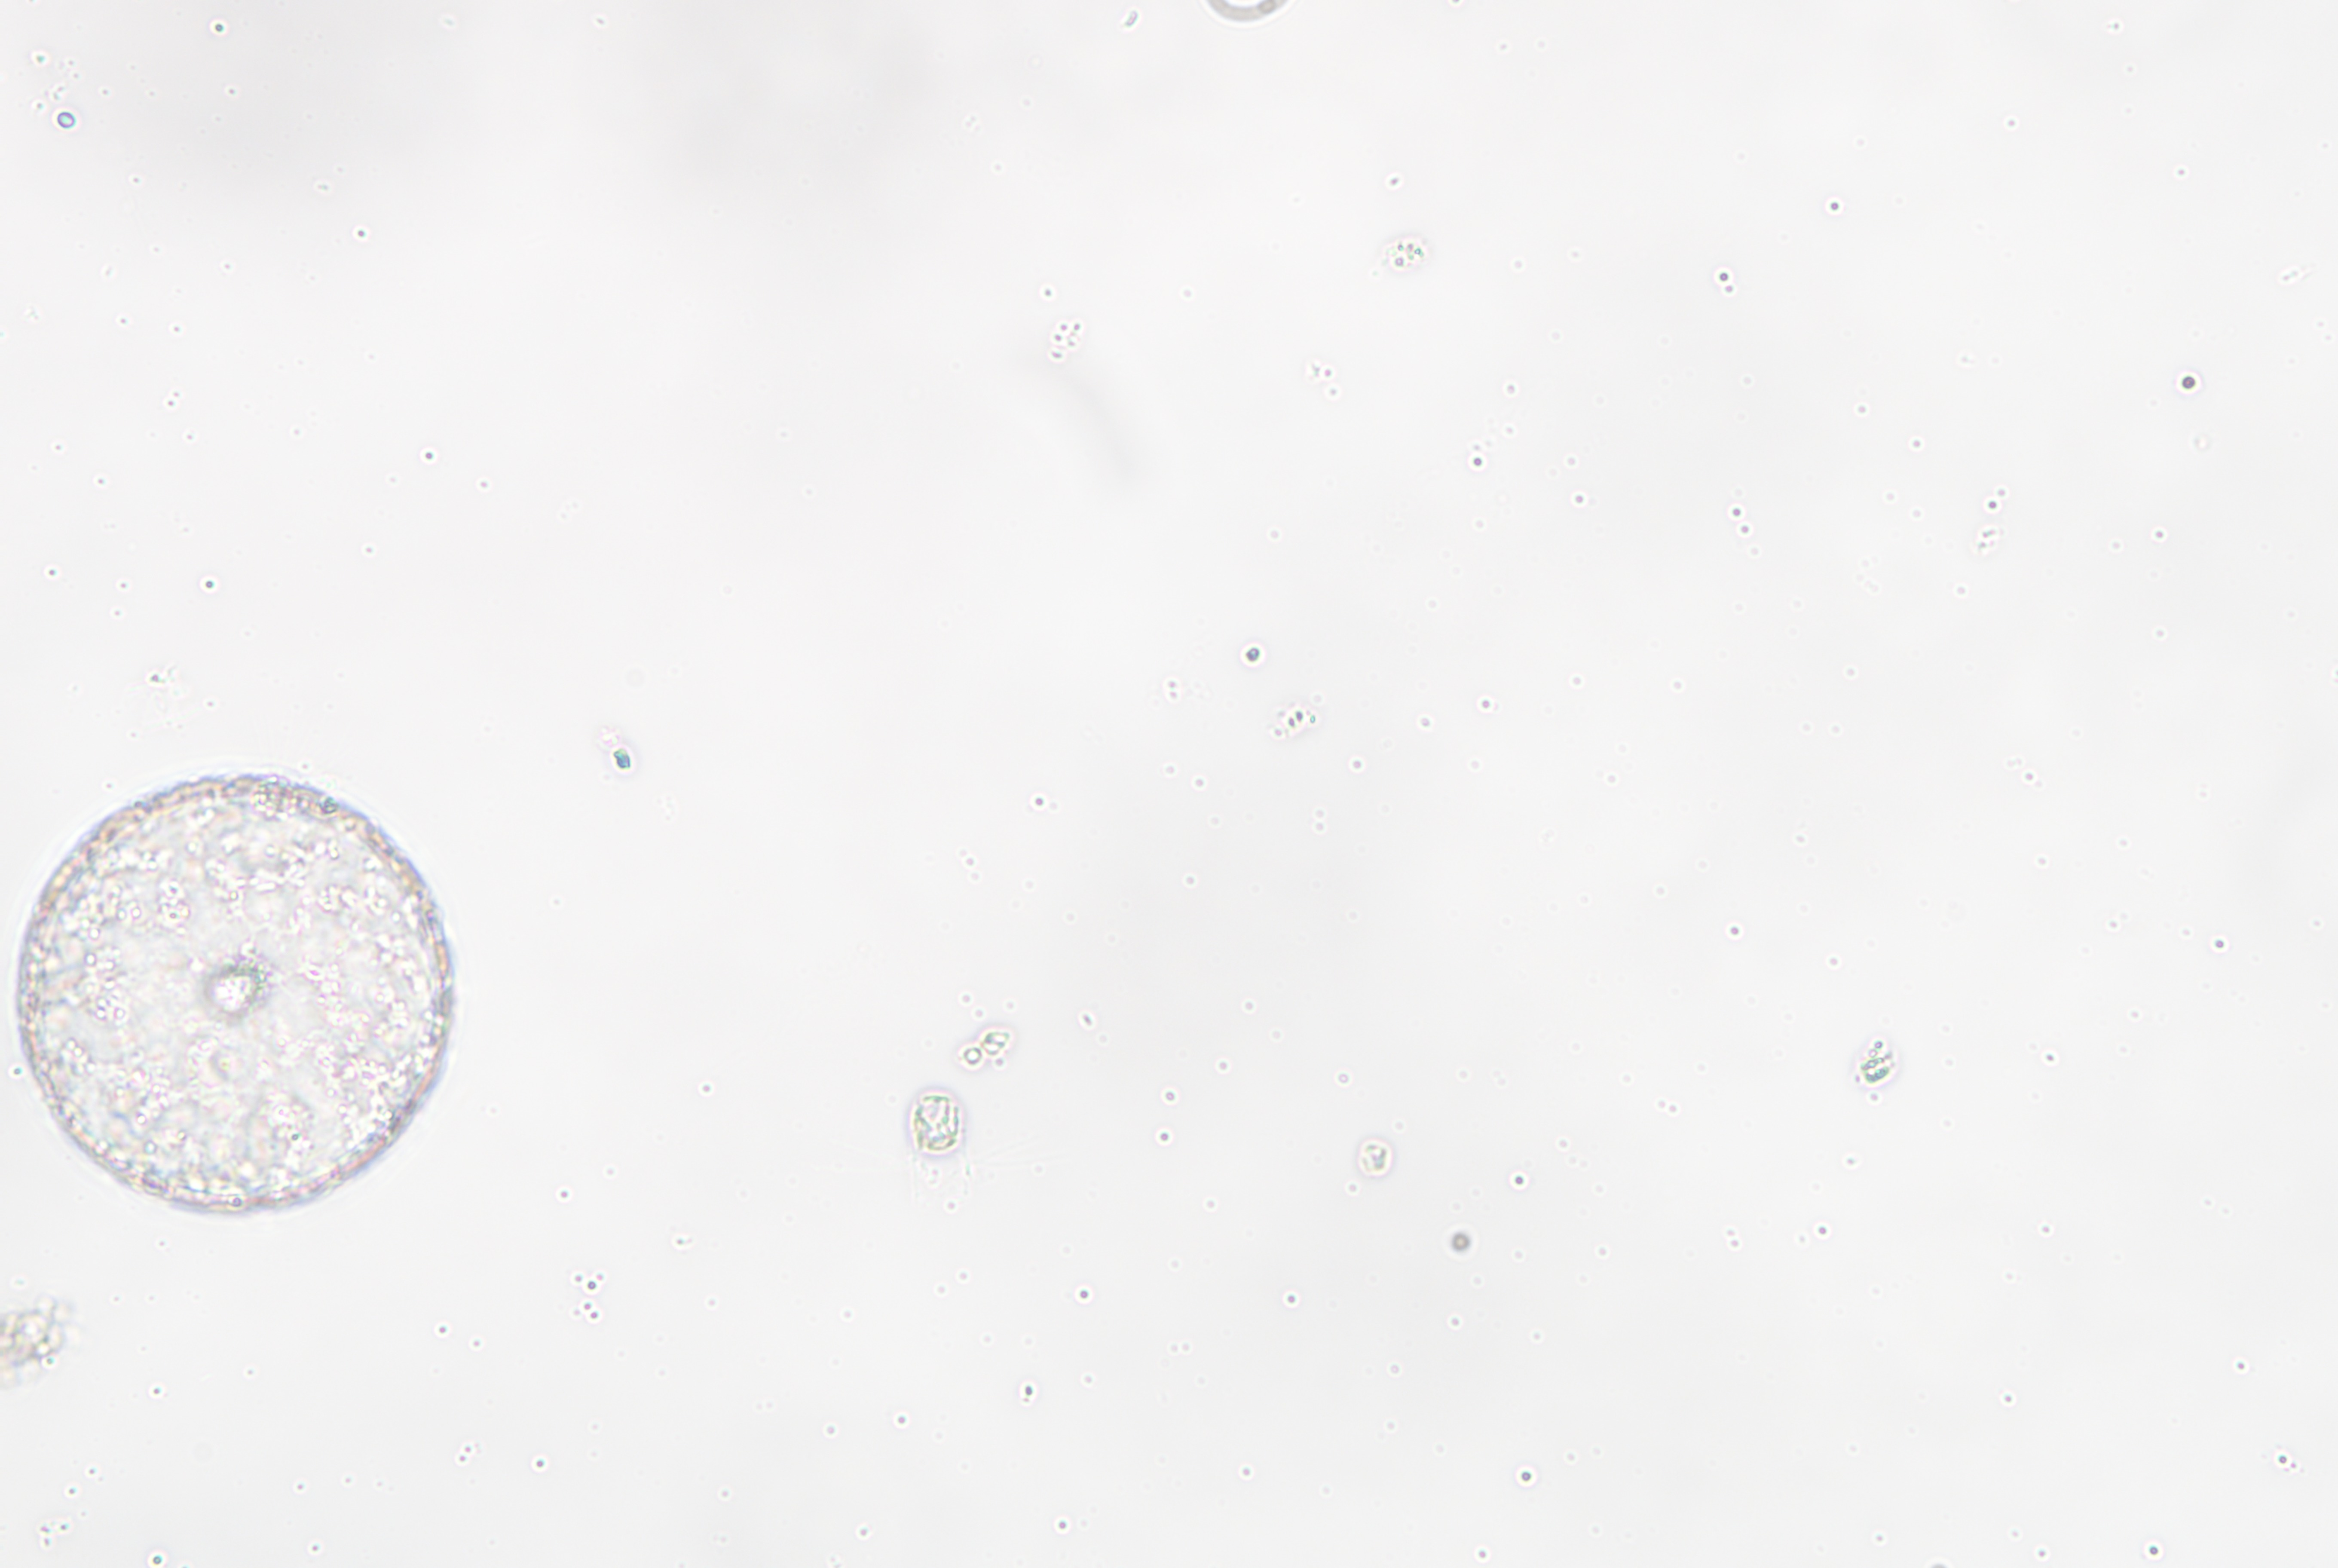coscinodiscus: (17, 770, 457, 1216)
